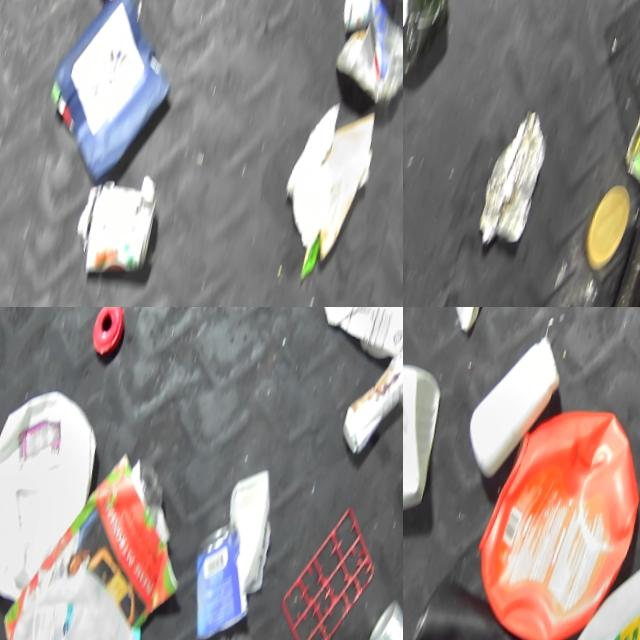can: (69, 167, 169, 291), (179, 517, 272, 640)
milk_jug: (0, 377, 115, 614), (0, 559, 161, 640), (547, 518, 640, 640), (403, 347, 456, 539), (83, 0, 210, 20)
non_white_jug: (461, 393, 640, 640), (403, 568, 565, 640), (310, 307, 403, 373)
plastic_bottle: (0, 453, 24, 640)
